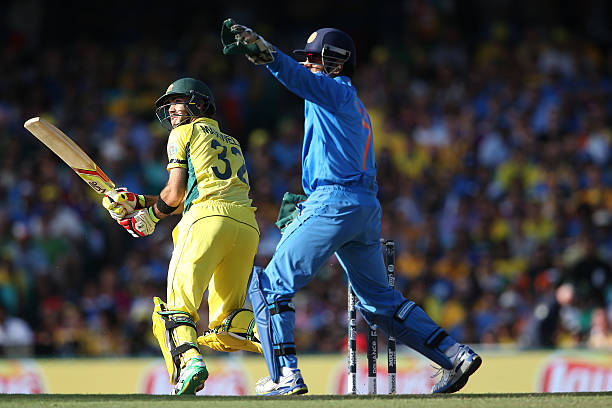bottom left: (33, 108, 49, 125)
bottom right: (18, 120, 36, 133)
top left: (104, 179, 120, 192)
top right: (91, 187, 109, 201)
